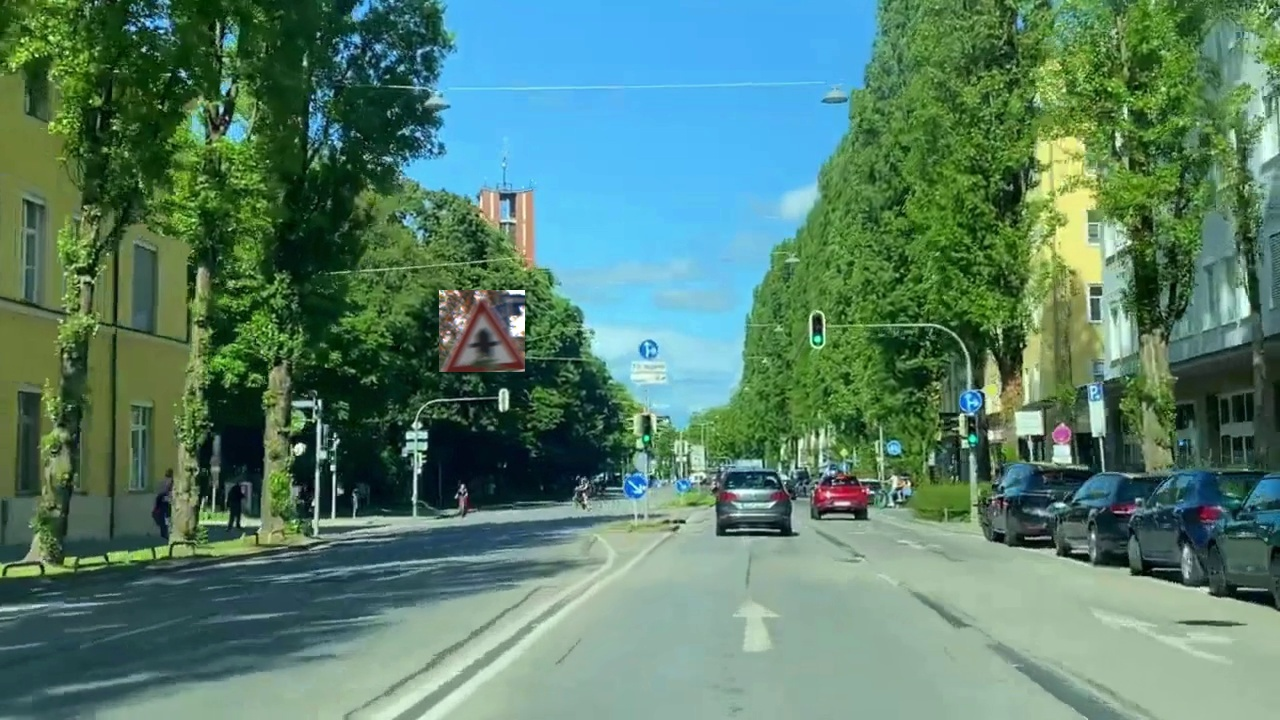Right-of-way: (439, 290, 525, 372)
